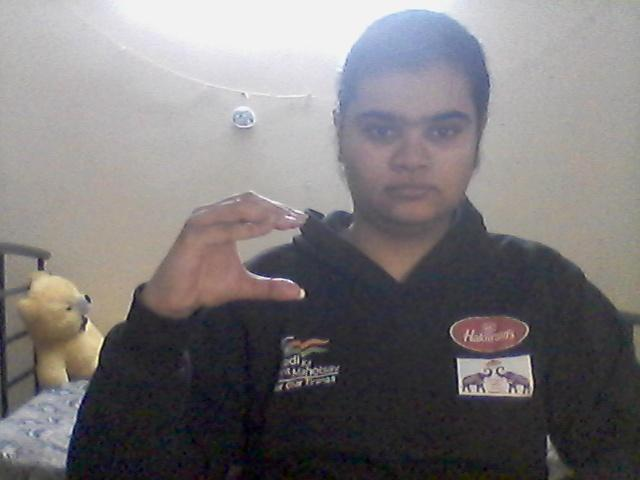no: (131, 186, 315, 324)
